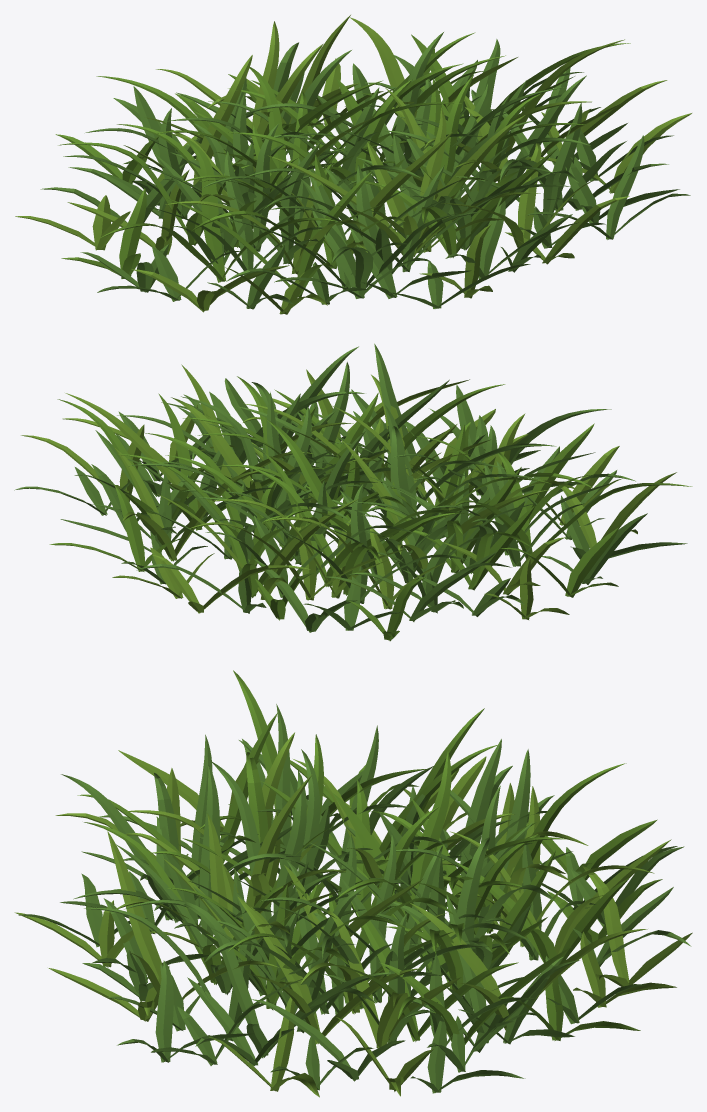
File: grama.obj
3 renders of one model, top to bottom at view 1: azimuth 30°, elevation 25°; view 2: azimuth 150°, elevation 25°; view 3: azimuth 270°, elevation 25°, orthographic. The views are drawn at different scales.
Parts seen in each view (by area): view 1: Mesh285 wild_grass_a1_01 G_05_grass_1_1 Model, Mesh244 wild_grass_a1_01 G_05_grass_1_1 Model, Mesh54 wild_grass_a1_01 G_05_grass_1_1 Model, Mesh19 wild_grass_a1_01 G_05_grass_1_1 Model, Mesh88 wild_grass_a1_01 G_05_grass_1_1 Model, Mesh161 wild_grass_a1_01 G_05_grass_1_1 Model, Mesh307 wild_grass_a1_01 G_05_grass_1_1 Model, Mesh319 wild_grass_a1_01 G_05_grass_1_1 Model, Mesh55 wild_grass_a1_01 G_05_grass_1_1 Model, Mesh45 wild_grass_a1_01 G_05_grass_1_1 Model, Mesh64 wild_grass_a1_01 G_05_grass_1_1 Model, Mesh351 wild_grass_a1_01 G_05_grass_1_1 Model (+67 smaller); view 2: Mesh143 wild_grass_a1_01 G_05_grass_1_1 Model, Mesh317 wild_grass_a1_01 G_05_grass_1_1 Model, Mesh46 wild_grass_a1_01 G_05_grass_1_1 Model, Mesh353 wild_grass_a1_01 G_05_grass_1_1 Model, Mesh337 wild_grass_a1_01 G_05_grass_1_1 Model, Mesh136 wild_grass_a1_01 G_05_grass_1_1 Model, Mesh109 wild_grass_a1_01 G_05_grass_1_1 Model, Mesh339 wild_grass_a1_01 G_05_grass_1_1 Model, Mesh83 wild_grass_a1_01 G_05_grass_1_1 Model, Mesh160 wild_grass_a1_01 G_05_grass_1_1 Model, Mesh18 wild_grass_a1_01 G_05_grass_1_1 Model, Mesh306 wild_grass_a1_01 G_05_grass_1_1 Model (+59 smaller); view 3: Mesh103 wild_grass_a1_01 G_05_grass_1_1 Model, Mesh316 wild_grass_a1_01 G_05_grass_1_1 Model, Mesh121 wild_grass_a1_01 G_05_grass_1_1 Model, Mesh166 wild_grass_a1_01 G_05_grass_1_1 Model, Mesh82 wild_grass_a1_01 G_05_grass_1_1 Model, Mesh79 wild_grass_a1_01 G_05_grass_1_1 Model, Mesh27 wild_grass_a1_01 G_05_grass_1_1 Model, Mesh61 wild_grass_a1_01 G_05_grass_1_1 Model, Mesh245 wild_grass_a1_01 G_05_grass_1_1 Model, Mesh282 wild_grass_a1_01 G_05_grass_1_1 Model, Mesh89 wild_grass_a1_01 G_05_grass_1_1 Model, Mesh311 wild_grass_a1_01 G_05_grass_1_1 Model (+60 smaller).
Part boxes in pixels (left/top/right/bottom): Mesh285 wild_grass_a1_01 G_05_grass_1_1 Model: left=186, top=138, right=226, bottom=282; Mesh244 wild_grass_a1_01 G_05_grass_1_1 Model: left=606, top=135, right=644, bottom=239; Mesh54 wild_grass_a1_01 G_05_grass_1_1 Model: left=224, top=151, right=253, bottom=274; Mesh19 wild_grass_a1_01 G_05_grass_1_1 Model: left=193, top=55, right=252, bottom=193; Mesh88 wild_grass_a1_01 G_05_grass_1_1 Model: left=414, top=115, right=525, bottom=256; Mesh161 wild_grass_a1_01 G_05_grass_1_1 Model: left=387, top=32, right=443, bottom=179; Mesh307 wild_grass_a1_01 G_05_grass_1_1 Model: left=440, top=75, right=473, bottom=185; Mesh319 wild_grass_a1_01 G_05_grass_1_1 Model: left=249, top=67, right=287, bottom=178; Mesh55 wild_grass_a1_01 G_05_grass_1_1 Model: left=279, top=141, right=321, bottom=263; Mesh45 wild_grass_a1_01 G_05_grass_1_1 Model: left=253, top=124, right=278, bottom=251; Mesh64 wild_grass_a1_01 G_05_grass_1_1 Model: left=348, top=132, right=452, bottom=243; Mesh351 wild_grass_a1_01 G_05_grass_1_1 Model: left=297, top=171, right=371, bottom=297; Mesh143 wild_grass_a1_01 G_05_grass_1_1 Model: left=65, top=393, right=180, bottom=485; Mesh317 wild_grass_a1_01 G_05_grass_1_1 Model: left=267, top=419, right=351, bottom=543; Mesh46 wild_grass_a1_01 G_05_grass_1_1 Model: left=390, top=426, right=414, bottom=517; Mesh353 wild_grass_a1_01 G_05_grass_1_1 Model: left=526, top=423, right=594, bottom=523; Mesh337 wild_grass_a1_01 G_05_grass_1_1 Model: left=565, top=527, right=618, bottom=597; Mesh136 wild_grass_a1_01 G_05_grass_1_1 Model: left=171, top=397, right=253, bottom=494; Mesh109 wild_grass_a1_01 G_05_grass_1_1 Model: left=315, top=362, right=349, bottom=469; Mesh339 wild_grass_a1_01 G_05_grass_1_1 Model: left=114, top=484, right=145, bottom=571; Mesh83 wild_grass_a1_01 G_05_grass_1_1 Model: left=374, top=343, right=426, bottom=501; Mesh160 wild_grass_a1_01 G_05_grass_1_1 Model: left=277, top=407, right=311, bottom=546; Mesh18 wild_grass_a1_01 G_05_grass_1_1 Model: left=350, top=484, right=368, bottom=603; Mesh306 wild_grass_a1_01 G_05_grass_1_1 Model: left=384, top=384, right=505, bottom=477; Mesh103 wild_grass_a1_01 G_05_grass_1_1 Model: left=107, top=831, right=162, bottom=980; Mesh316 wild_grass_a1_01 G_05_grass_1_1 Model: left=409, top=751, right=451, bottom=940; Mesh121 wild_grass_a1_01 G_05_grass_1_1 Model: left=169, top=899, right=263, bottom=1058; Mesh166 wild_grass_a1_01 G_05_grass_1_1 Model: left=457, top=837, right=489, bottom=1008; Mesh82 wild_grass_a1_01 G_05_grass_1_1 Model: left=199, top=765, right=220, bottom=945; Mesh79 wild_grass_a1_01 G_05_grass_1_1 Model: left=273, top=771, right=306, bottom=913; Mesh27 wild_grass_a1_01 G_05_grass_1_1 Model: left=460, top=739, right=501, bottom=876; Mesh61 wild_grass_a1_01 G_05_grass_1_1 Model: left=298, top=749, right=320, bottom=895; Mesh245 wild_grass_a1_01 G_05_grass_1_1 Model: left=155, top=960, right=173, bottom=1062; Mesh282 wild_grass_a1_01 G_05_grass_1_1 Model: left=582, top=865, right=629, bottom=982; Mesh89 wild_grass_a1_01 G_05_grass_1_1 Model: left=246, top=774, right=312, bottom=907; Mesh311 wild_grass_a1_01 G_05_grass_1_1 Model: left=488, top=763, right=626, bottom=933.
Size of the model in its own units: 77.21 by 12.33 by 60.16.
